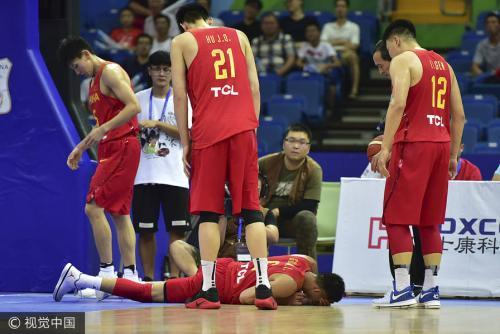bending: (240, 117, 327, 269)
down: (44, 242, 348, 317)
up: (168, 5, 274, 316), (368, 16, 469, 317), (55, 33, 145, 293), (129, 45, 186, 283)
